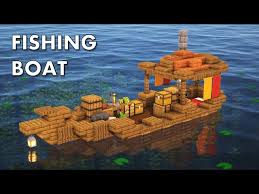boat: (19, 29, 229, 165)
